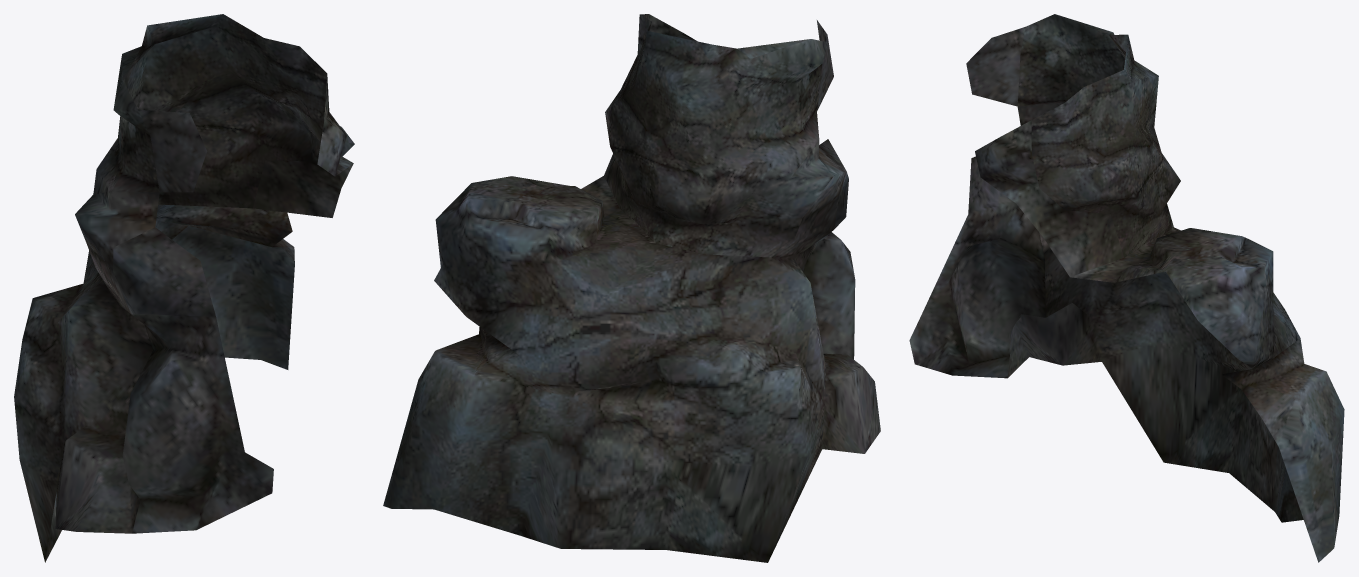
Rendered from S_Rock_Yellow034_H39.FBX.
The picture shows the model from 3 angles, left to right: view 1: azimuth 30°, elevation 25°; view 2: azimuth 150°, elevation 25°; view 3: azimuth 270°, elevation 25°; orthographic projection. The views are drawn at different scales.
Visible parts, largest first — view 1: S_Rock_Yellow034_H39; view 2: S_Rock_Yellow034_H39; view 3: S_Rock_Yellow034_H39.
Boxes of the visible parts, left/top/right/bottom form: S_Rock_Yellow034_H39: left=14, top=14, right=354, bottom=562; S_Rock_Yellow034_H39: left=383, top=14, right=880, bottom=562; S_Rock_Yellow034_H39: left=909, top=14, right=1344, bottom=562.
Bounding box in the file's own units: 912 × 1040 × 1221.
Materials: 1 (1 with a texture image).
